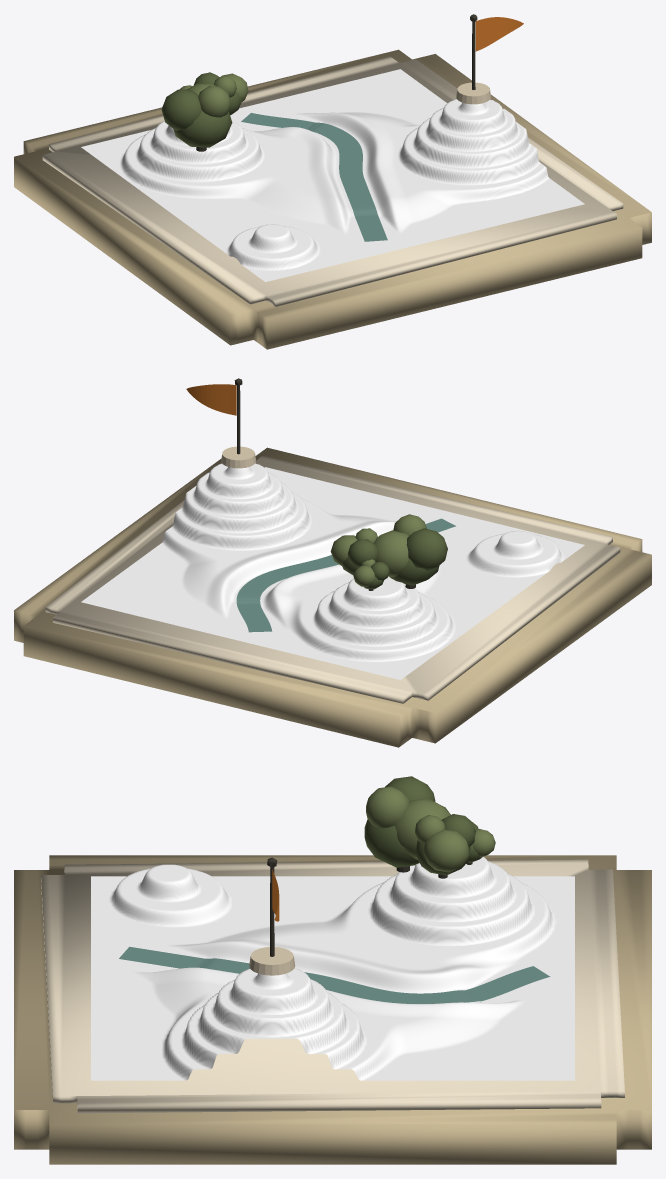
File: home-hero-terrain.glb
The picture shows the model from 3 angles, top to bottom: view 1: azimuth 30°, elevation 25°; view 2: azimuth 150°, elevation 25°; view 3: azimuth 270°, elevation 25°; orthographic projection. The views are drawn at different scales.
Visible parts, largest first — view 1: Terrain, SlabCore, SlabLip, RiverWater, Tree1_Lobe0, Tree1_Lobe2, Pennant, Tree1_Lobe3, FlagPlinth; view 2: Terrain, SlabCore, SlabLip, RiverWater, Tree1_Lobe2, Tree1_Lobe1, Pennant, FlagPlinth, Tree2_Lobe2, Tree1_Lobe0; view 3: Terrain, SlabCore, SlabLip, RiverWater, Tree2_Lobe1, Tree1_Lobe0, Tree1_Lobe1, Tree1_Lobe3, FlagPlinth, Tree1_Lobe2, Tree2_Lobe2, Tree2_Lobe3.
Boxes of the visible parts, bbox=[...] form: Terrain: bbox=[81, 69, 584, 281]; SlabCore: bbox=[14, 49, 651, 349]; SlabLip: bbox=[42, 56, 623, 306]; RiverWater: bbox=[241, 113, 387, 241]; Tree1_Lobe0: bbox=[173, 111, 232, 147]; Tree1_Lobe2: bbox=[161, 89, 201, 130]; Pennant: bbox=[475, 17, 523, 51]; Tree1_Lobe3: bbox=[198, 86, 230, 117]; FlagPlinth: bbox=[456, 82, 491, 104]; Terrain: bbox=[81, 463, 584, 679]; SlabCore: bbox=[14, 447, 651, 747]; SlabLip: bbox=[45, 455, 620, 703]; RiverWater: bbox=[236, 518, 455, 632]; Tree1_Lobe2: bbox=[406, 528, 447, 570]; Tree1_Lobe1: bbox=[374, 530, 408, 577]; Pennant: bbox=[186, 384, 236, 415]; FlagPlinth: bbox=[221, 446, 255, 468]; Tree2_Lobe2: bbox=[347, 539, 377, 567]; Tree1_Lobe0: bbox=[389, 558, 439, 585]; Terrain: bbox=[91, 856, 574, 1080]; SlabCore: bbox=[14, 855, 651, 1164]; SlabLip: bbox=[41, 859, 624, 1113]; RiverWater: bbox=[119, 946, 550, 1003]; Tree2_Lobe1: bbox=[423, 829, 469, 872]; Tree1_Lobe0: bbox=[364, 819, 419, 867]; Tree1_Lobe1: bbox=[395, 798, 450, 859]; Tree1_Lobe3: bbox=[366, 786, 408, 828]; FlagPlinth: bbox=[249, 947, 295, 975]; Tree1_Lobe2: bbox=[385, 776, 435, 801]; Tree2_Lobe2: bbox=[442, 814, 475, 847]; Tree2_Lobe3: bbox=[415, 815, 444, 842].
Bounding box in the file's own units: 2.9 × 1.24 × 2.9.
